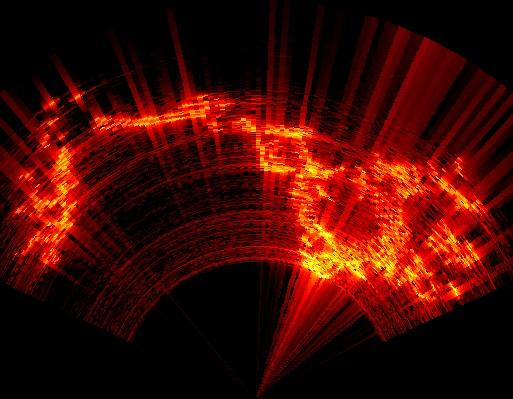shipwreck: (235, 117, 492, 302), (14, 145, 79, 266), (93, 96, 233, 137)
